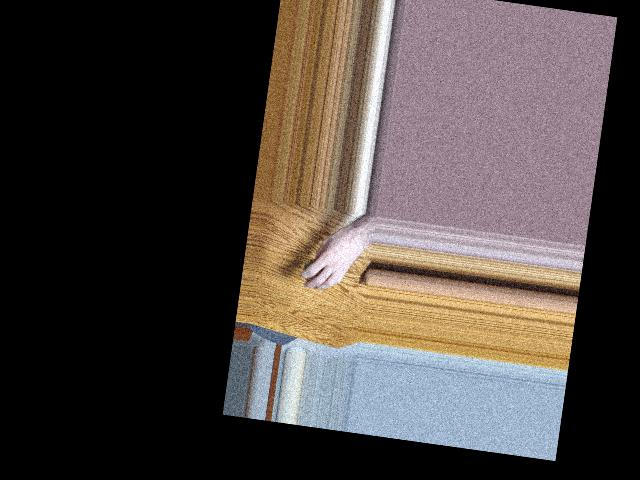onion: (301, 254, 329, 286)
